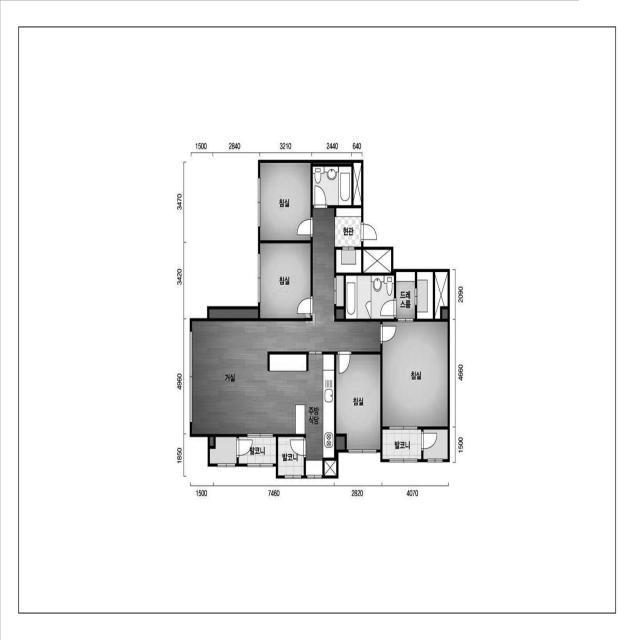space_balconi: (382, 429, 421, 459), (278, 437, 304, 476), (239, 437, 276, 464)
space_bedroom: (382, 322, 448, 427), (336, 354, 380, 450), (260, 163, 311, 241), (260, 243, 311, 319)
space_dressroom: (396, 272, 433, 319)
space_front: (335, 208, 361, 273)
space_kitchen: (269, 354, 334, 476)
space_living_room: (192, 208, 380, 434)
space_other: (210, 437, 237, 464), (423, 430, 448, 459), (363, 249, 391, 273), (435, 272, 448, 319), (209, 309, 258, 318), (353, 163, 361, 206), (324, 460, 336, 476), (336, 436, 345, 450), (336, 309, 344, 319), (442, 309, 448, 319), (313, 163, 351, 164), (210, 437, 214, 446)
space_toilet: (346, 275, 394, 319), (313, 166, 352, 205)
